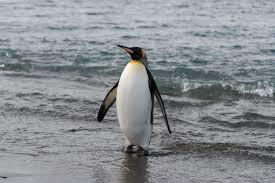king: (100, 36, 173, 159)
